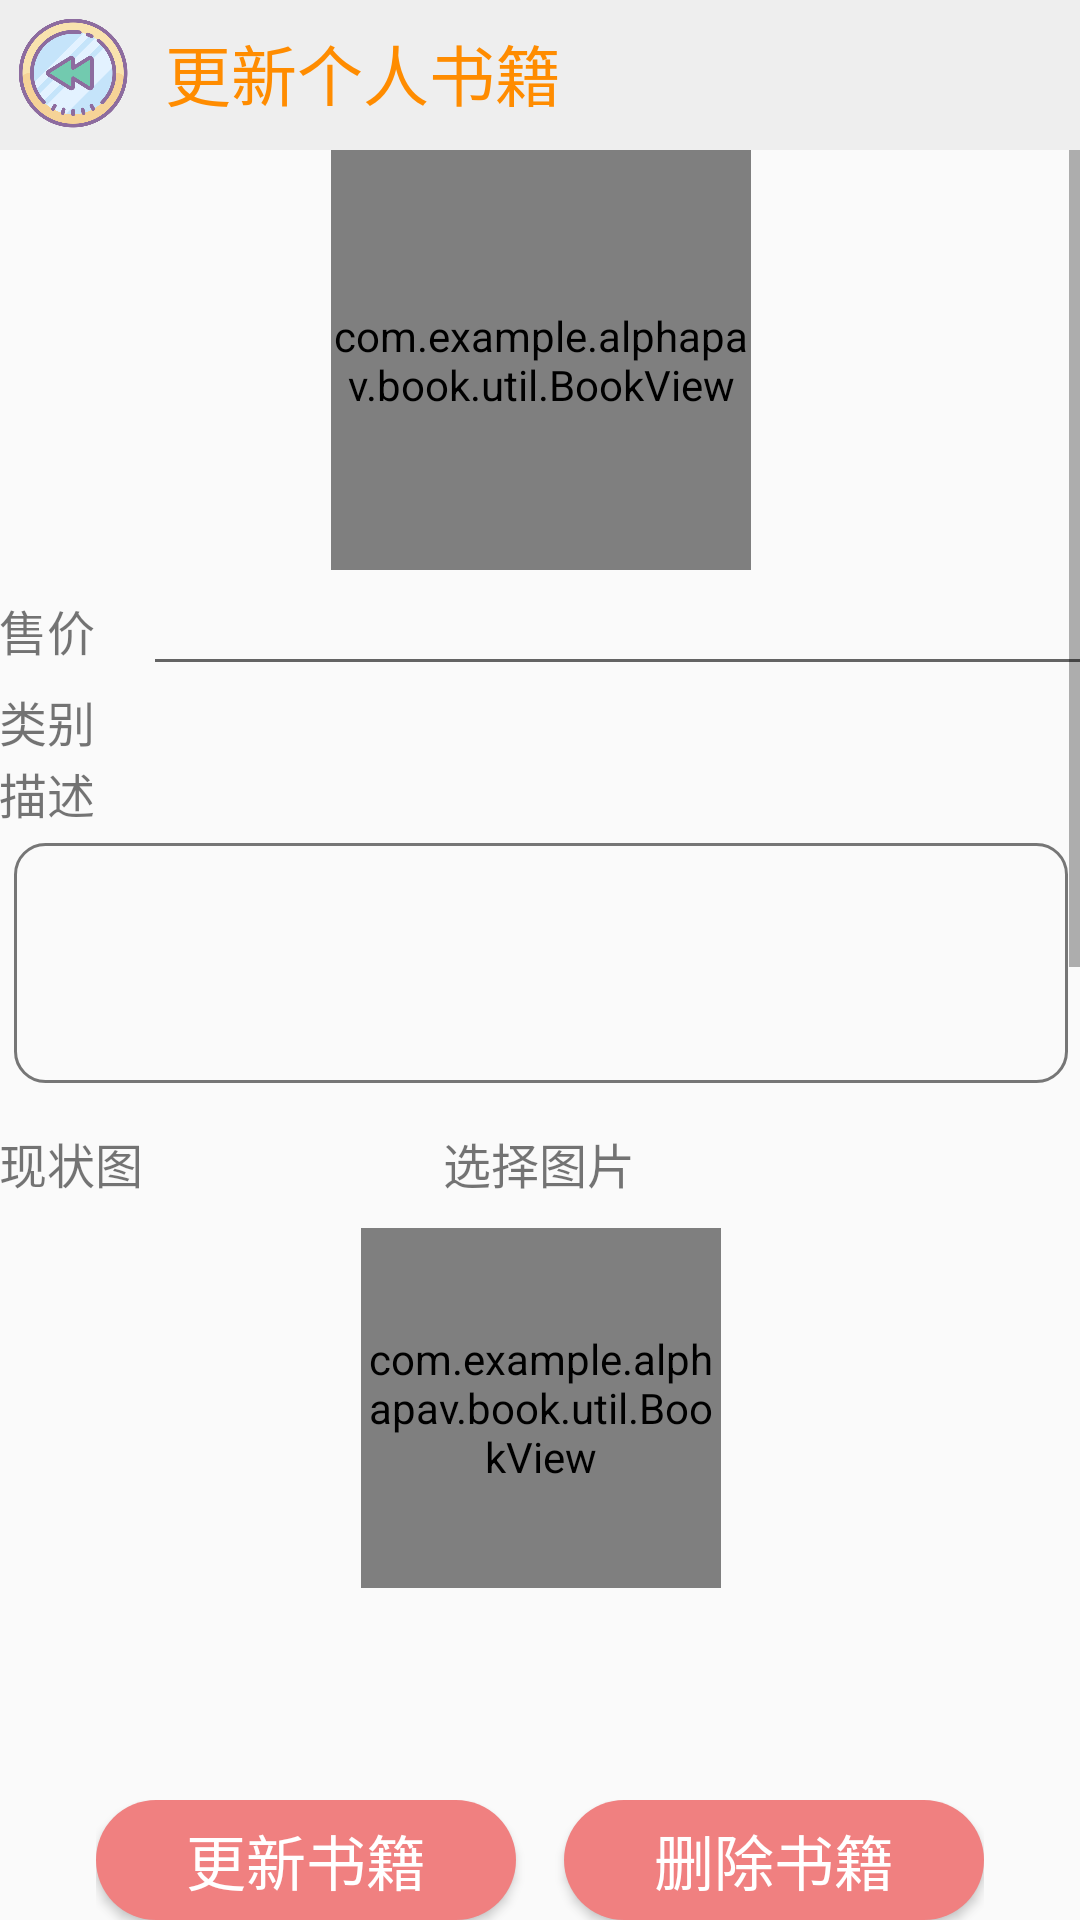

Icon click points for this 1080 x 1920 phone screenshot, format (x=x, y=y):
rewind: (x=73, y=73)
